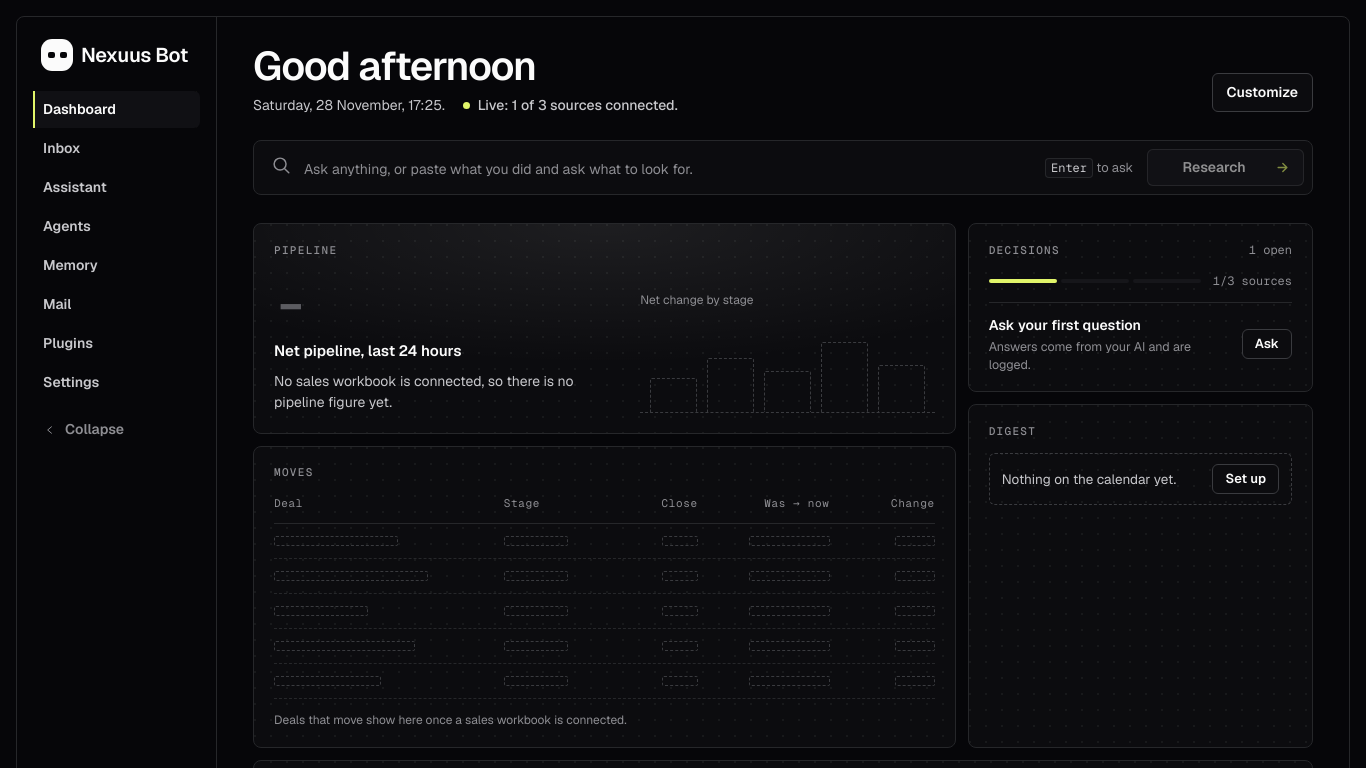
Test: the research answer card follows the layout › shows the layout's custom title on the answer region
The image size is (1366, 768).
Replace the text in the text box named "Research question" with "What changed?" at x=668, y=170, box top-left (304, 153), bottom-right (1031, 186)
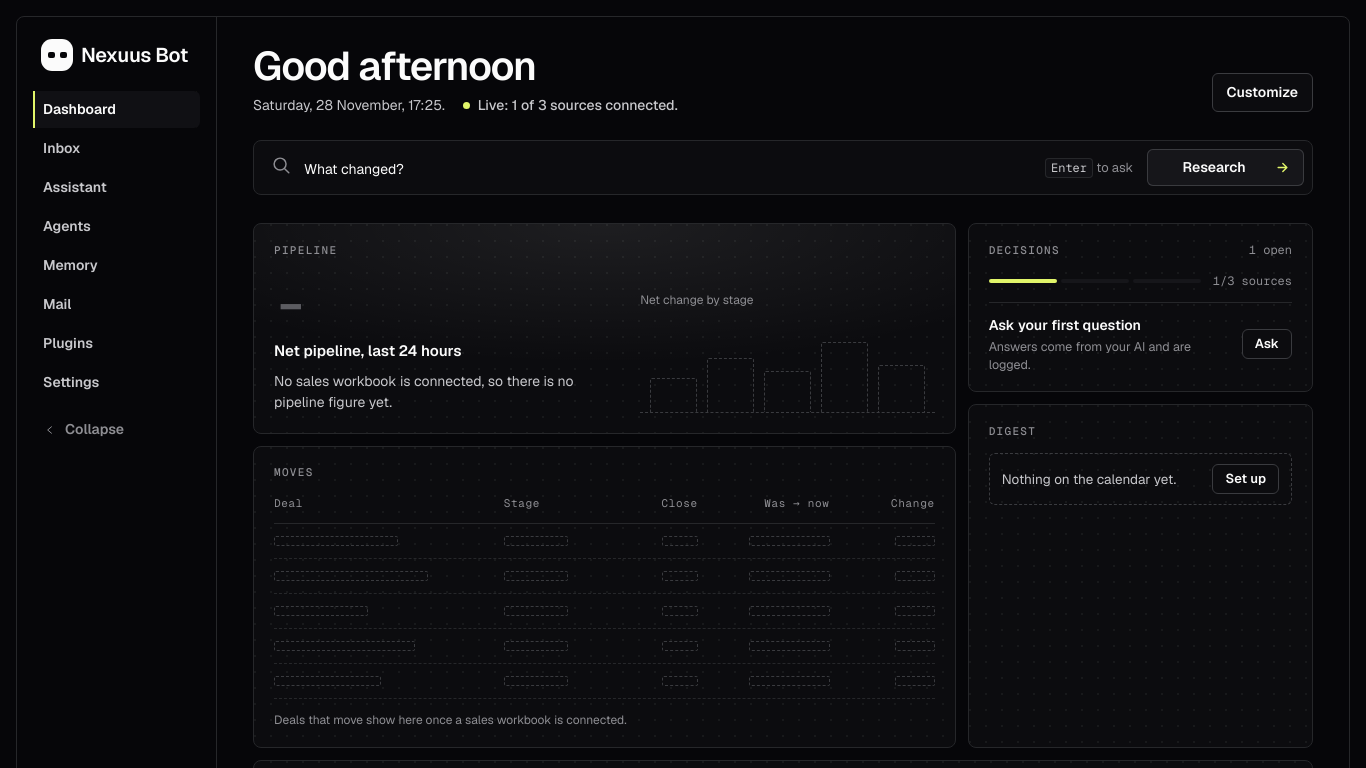
Click the button "Research" at x=1226, y=168, box top-left (1147, 149), bottom-right (1304, 186)
(page scrolled)
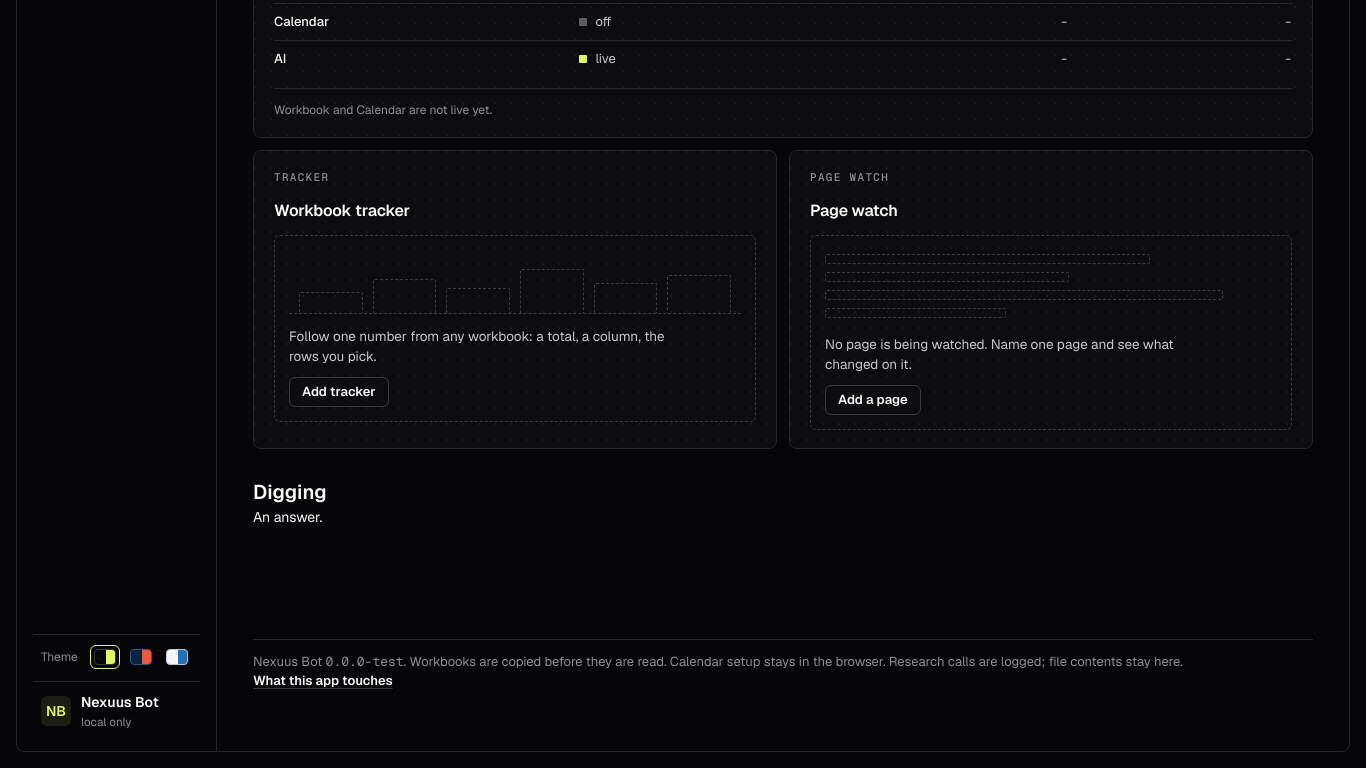
Now the heading "Digging" is shown, box top-left (253, 478), bottom-right (327, 504)
